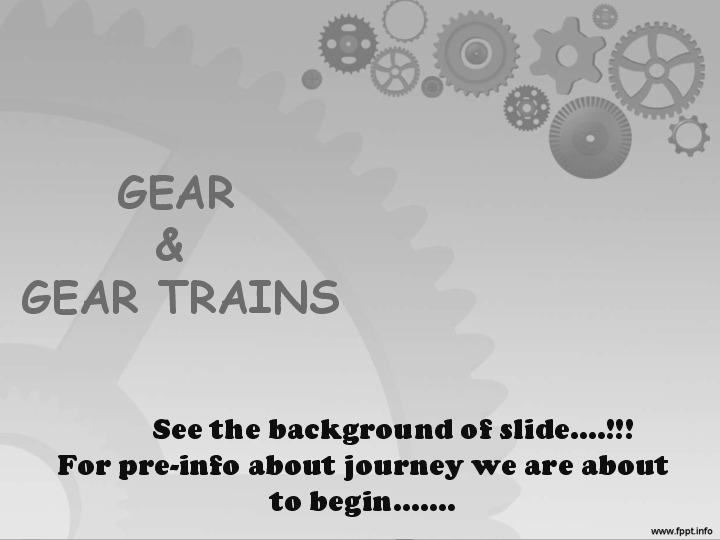subtitle: (36, 386, 710, 525)
title: (4, 142, 385, 351)
